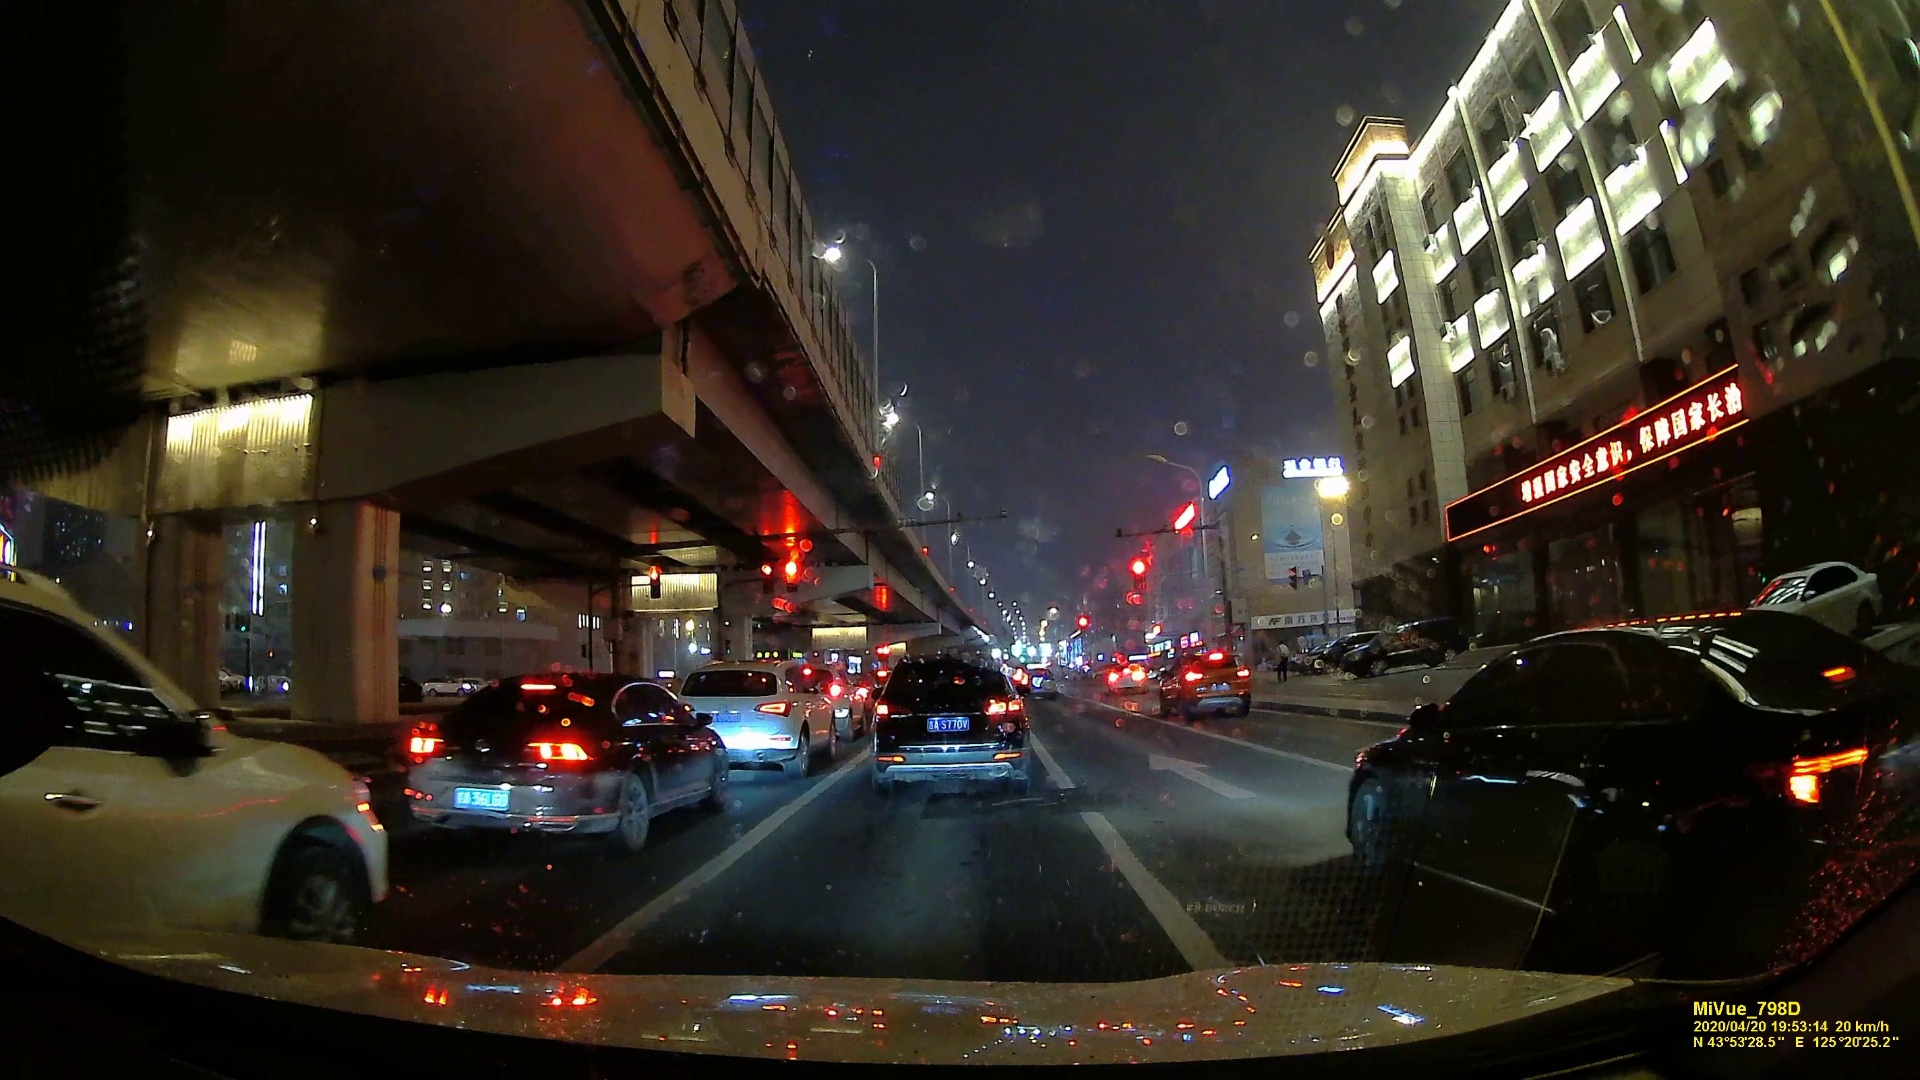person: (1274, 638, 1290, 682)
traffic_sign: (1130, 560, 1148, 592), (783, 561, 799, 592), (648, 568, 663, 598), (761, 562, 776, 591), (1077, 613, 1088, 635)
vehicle: (1342, 610, 1900, 958), (3, 570, 384, 949), (401, 662, 730, 859), (866, 662, 1032, 800), (677, 660, 833, 779), (1165, 653, 1251, 714), (1109, 662, 1148, 694)
